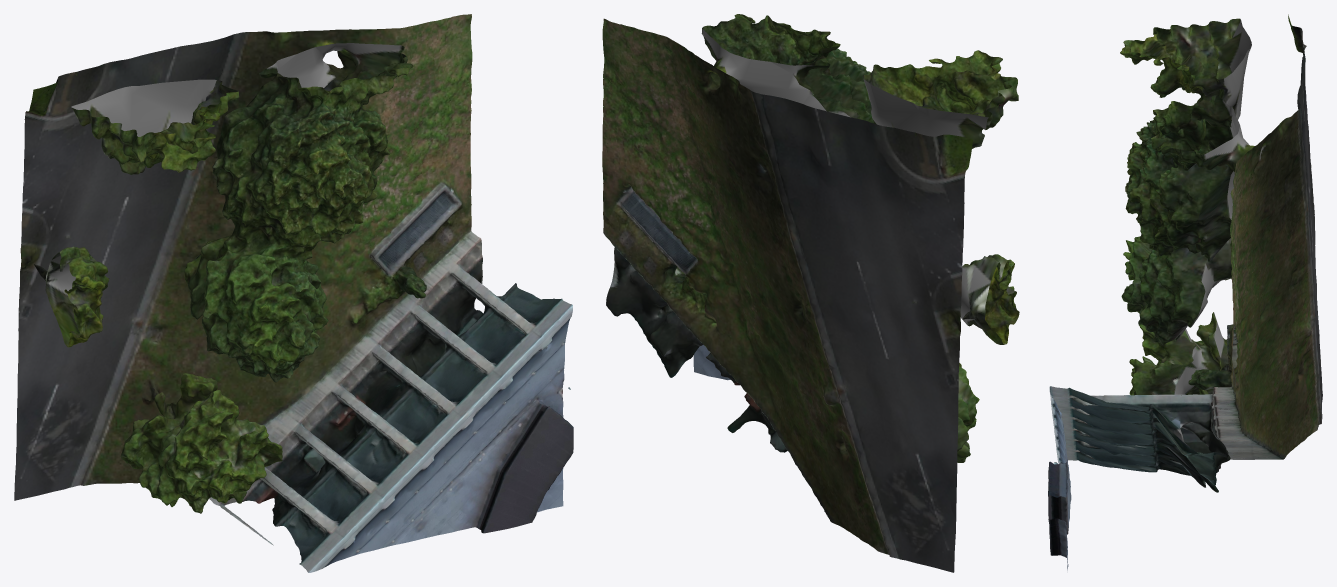
Rendered from Tile_+015_+017.fbx.
The picture shows the model from 3 angles, left to right: view 1: azimuth 30°, elevation 25°; view 2: azimuth 150°, elevation 25°; view 3: azimuth 270°, elevation 25°; orthographic projection. The views are drawn at different scales.
Parts seen in each view (by area): view 1: DefaultName; view 2: DefaultName; view 3: DefaultName.
Boxes of the visible parts, x1,y1,x2,y2 form: DefaultName: (14,14,573,572); DefaultName: (602,14,1019,572); DefaultName: (1048,14,1322,570).
Bounding box in the file's own units: 22.54 × 22.54 × 14.73.
